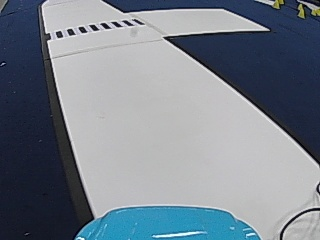CrossWalk: (49, 17, 140, 39)
